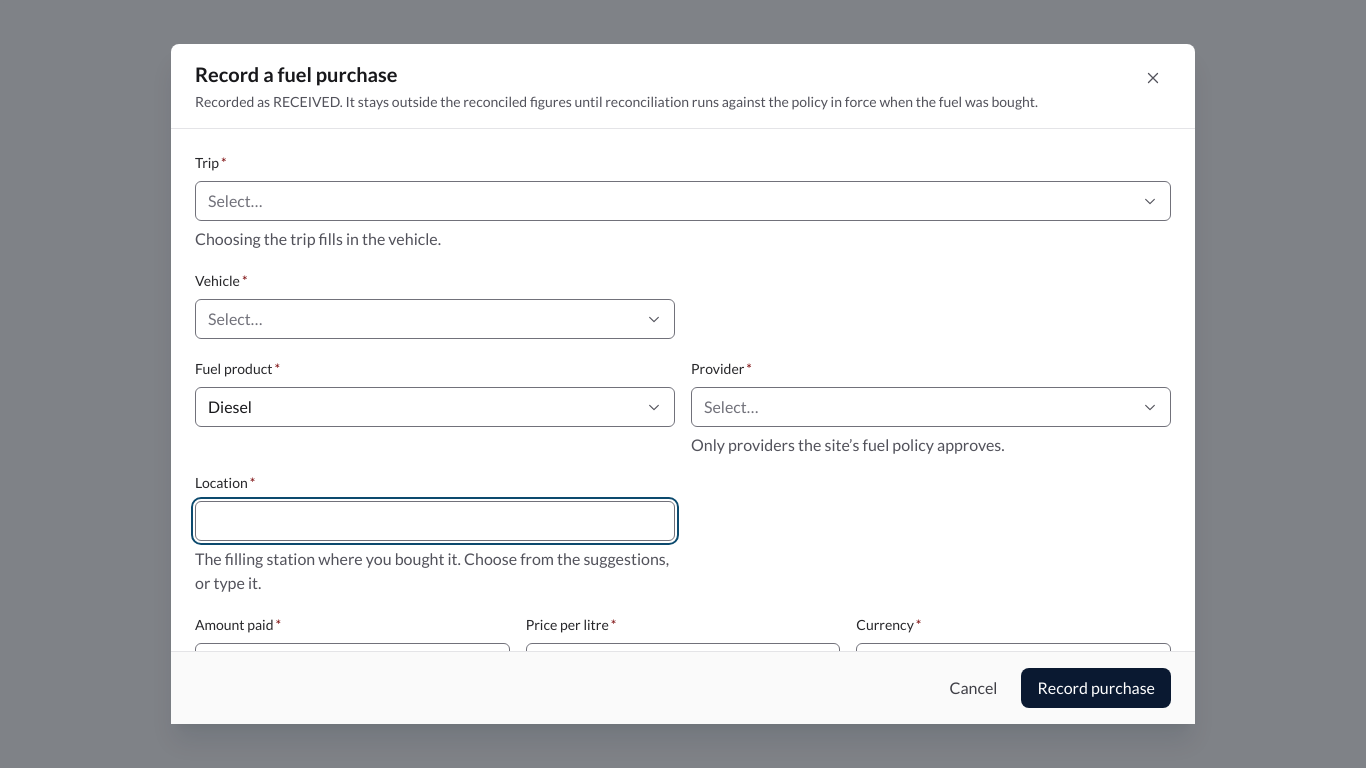
Test: CaptureTransactionDialog › prefills the vehicle from the chosen trip and leaves it on screen
Click the dropdown named "trip".
click(235, 200)  # box [195, 181, 1171, 221]
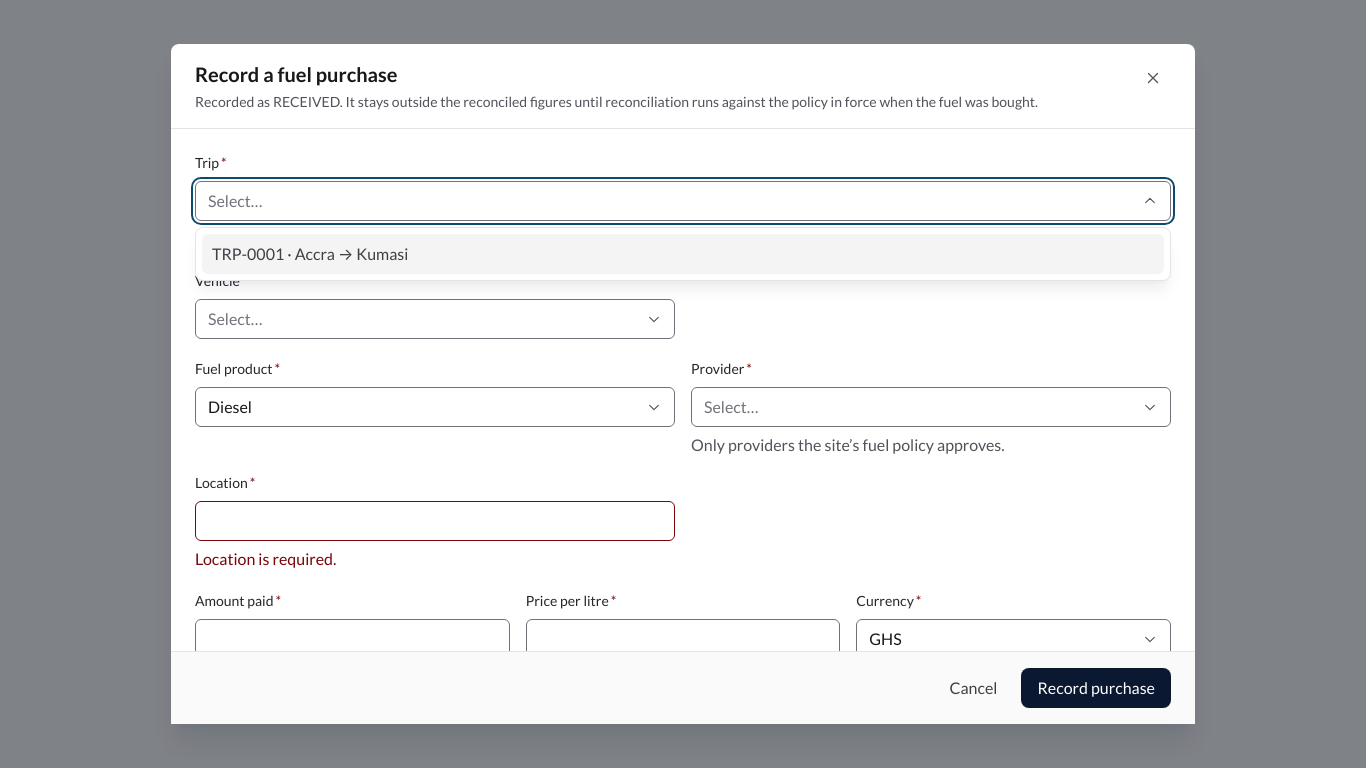
Click the option "TRP-0001 · Accra → Kumasi".
click(310, 253)  # box [202, 234, 1164, 274]
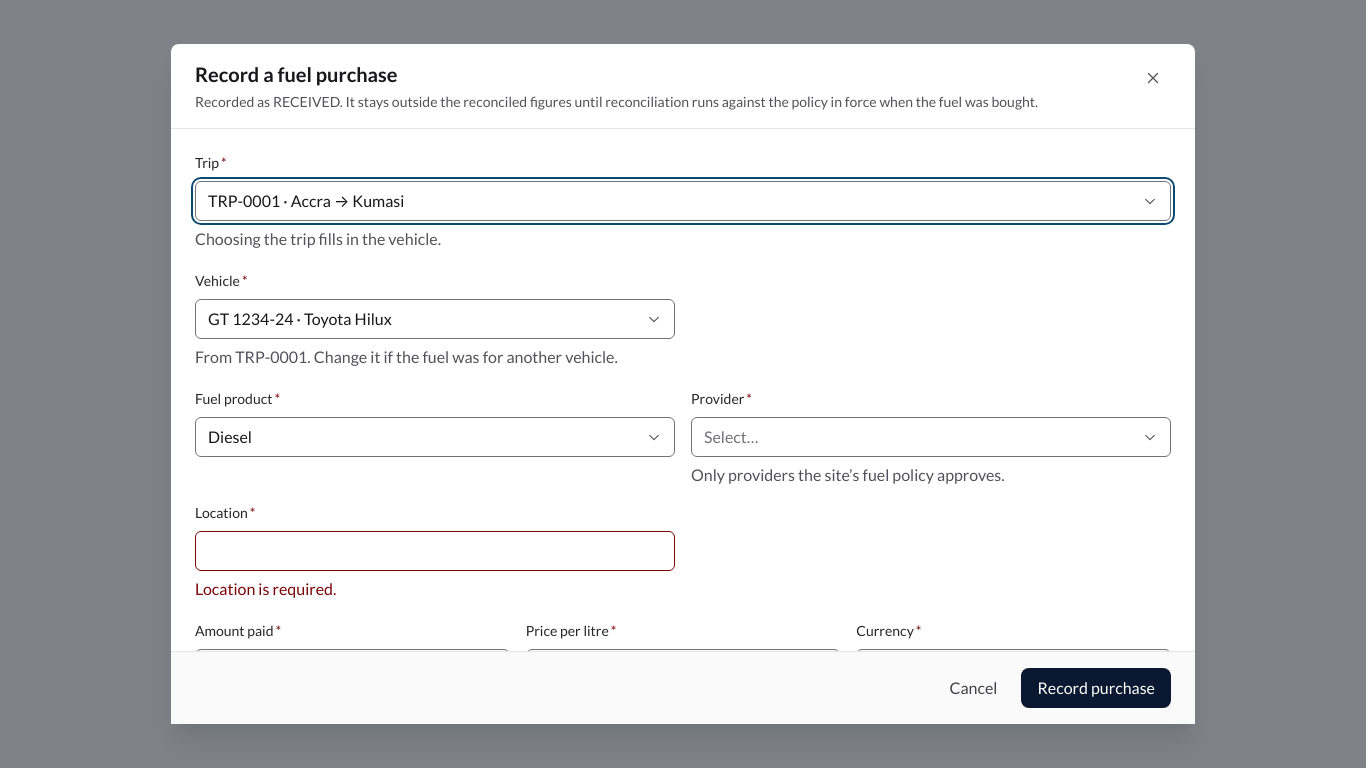
Expected: the dropdown named "vehicle" shows "GT 1234-24", [195, 299, 675, 339]
